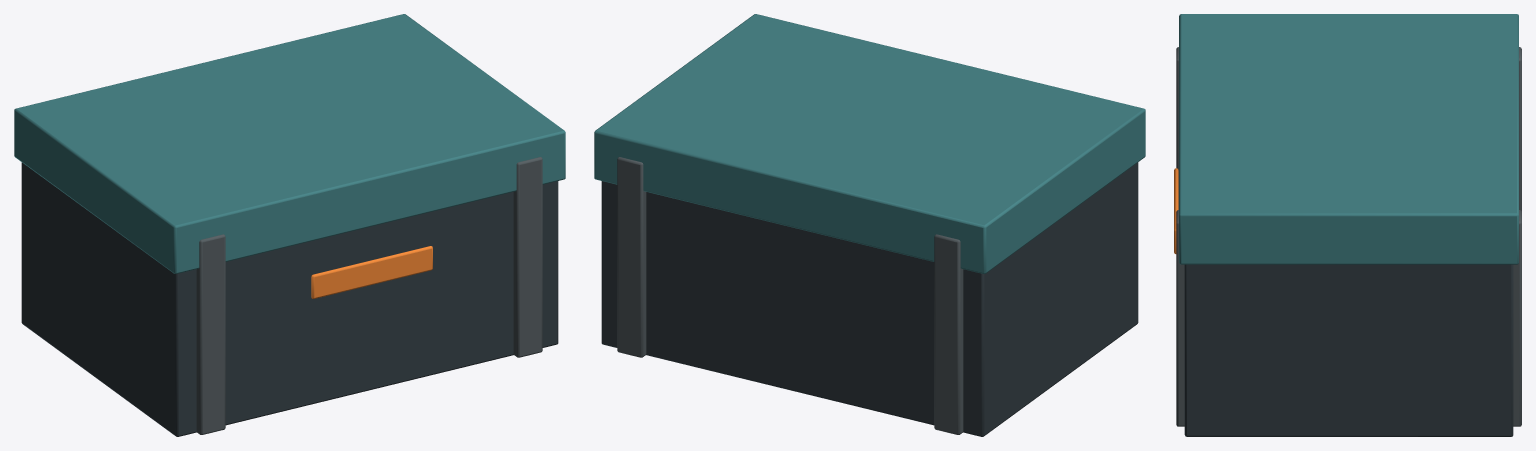
The model's file is nord01-supply_crate-lod0.glb.
The picture shows the model from 3 angles, left to right: view 1: azimuth 30°, elevation 25°; view 2: azimuth 150°, elevation 25°; view 3: azimuth 270°, elevation 25°; orthographic projection. The views are drawn at different scales.
Parts seen in each view (by area): view 1: static; view 2: static; view 3: static.
Part boxes in pixels (left/top/right/bottom): static: left=14, top=14, right=565, bottom=436; static: left=594, top=14, right=1145, bottom=436; static: left=1174, top=14, right=1521, bottom=436.
Size of the model in its own units: 0.84 by 0.44 by 0.614.
